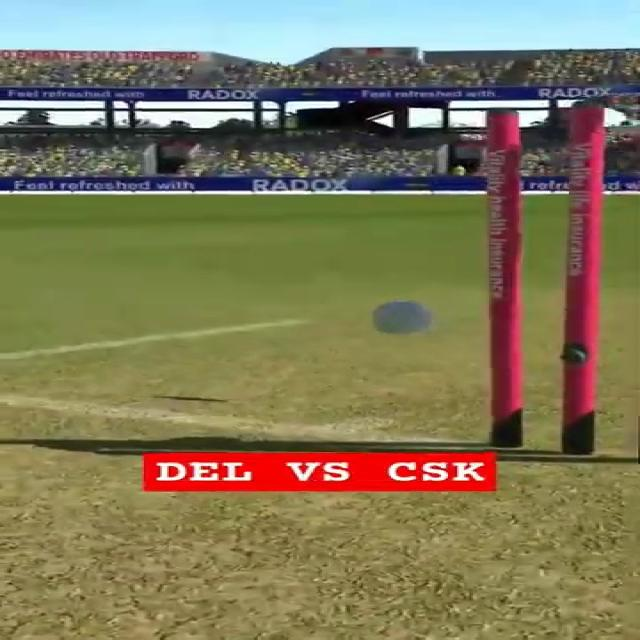ball: (370, 297, 430, 335)
